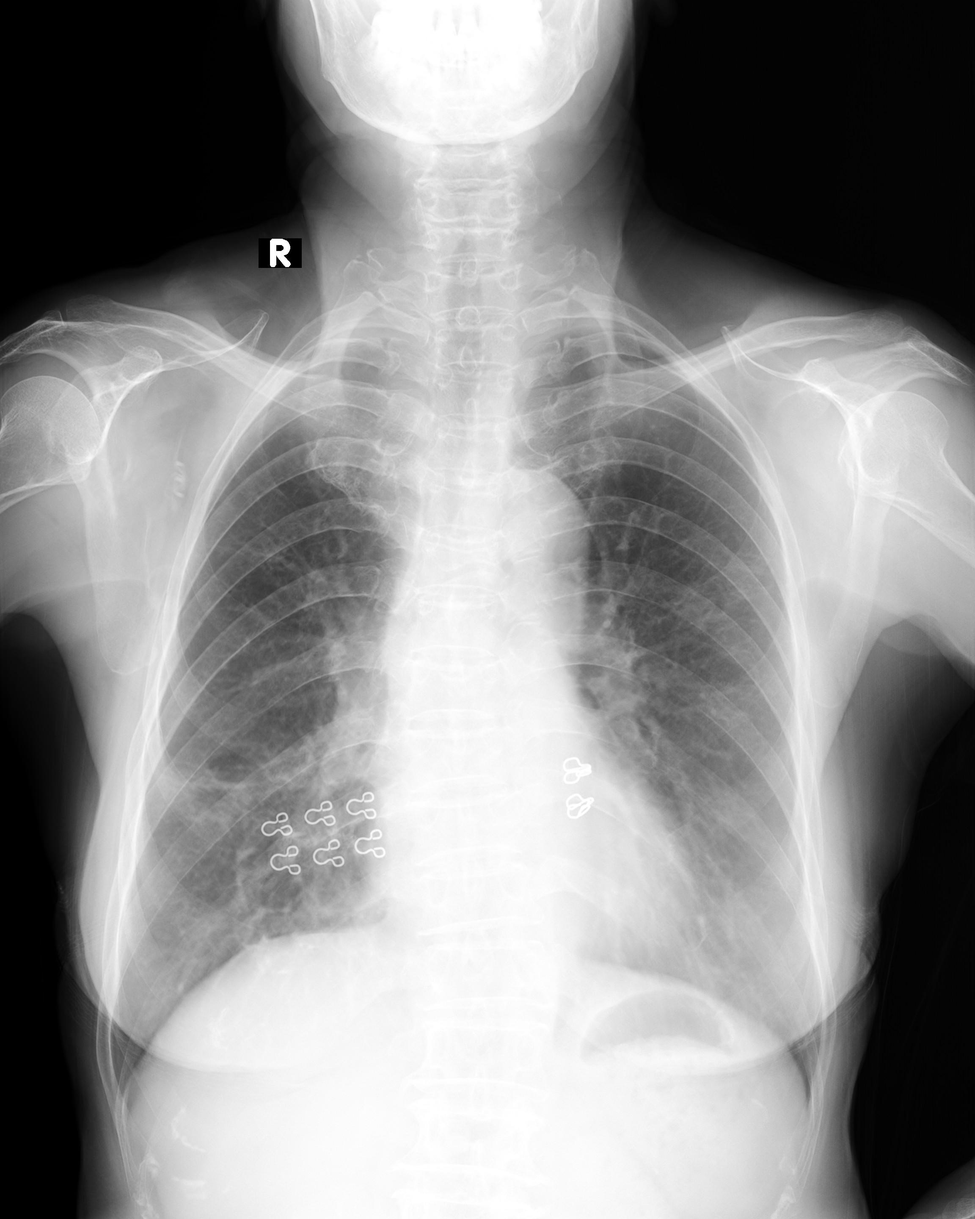Aortic enlargement: (479, 463, 590, 633)
